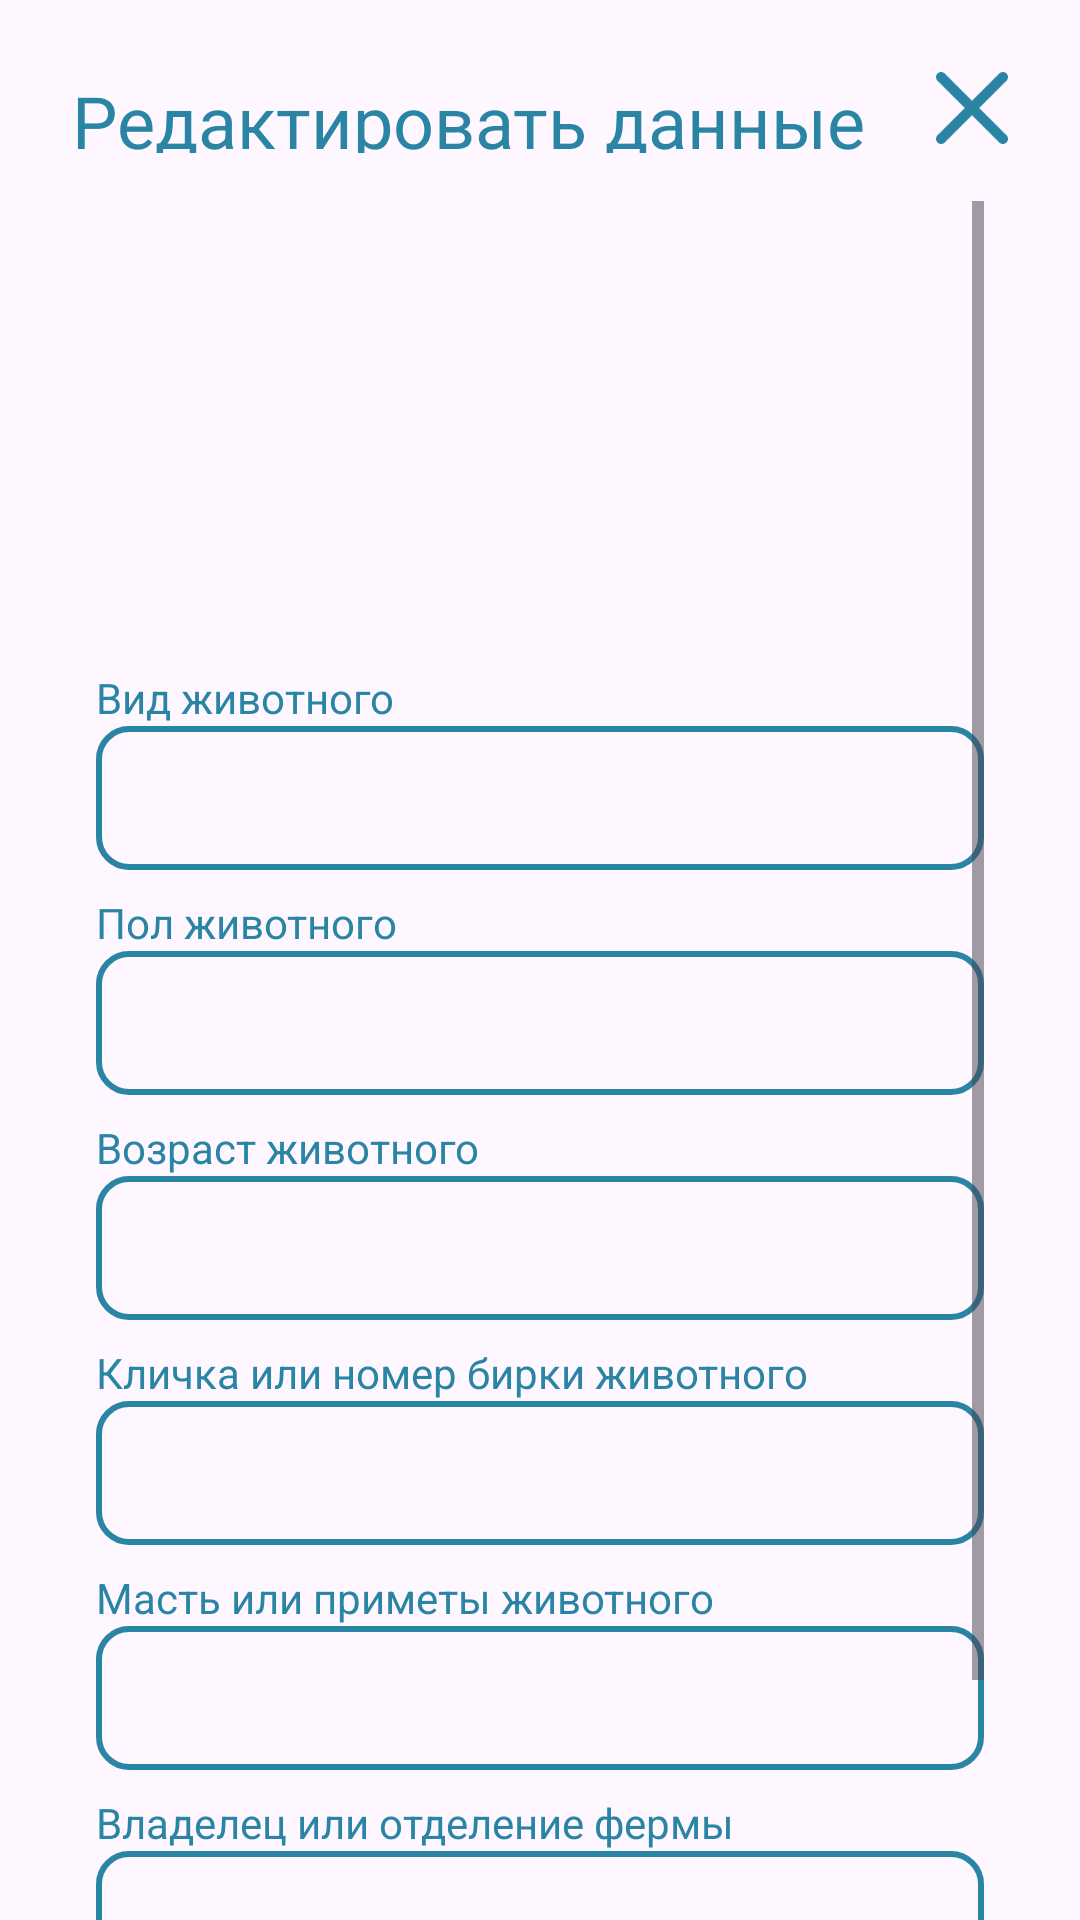

Named icons in this screenshot (1080px×1920px) and their centers, (x,y):
close: (972,108)
